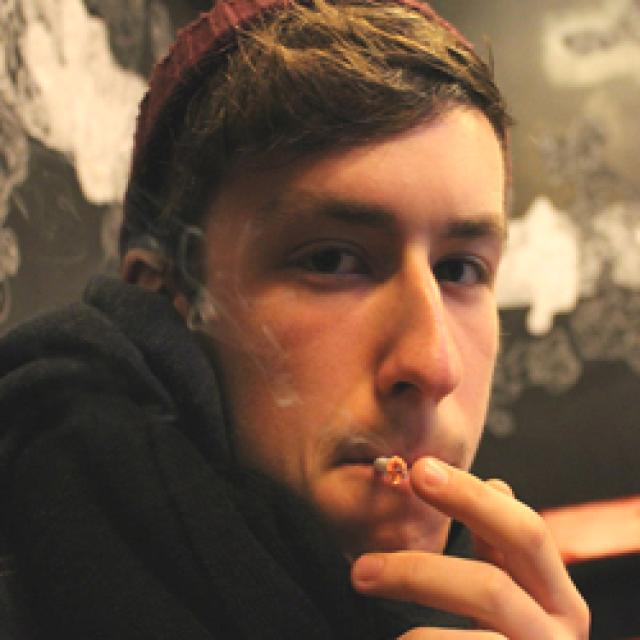Smooking: (373, 443, 413, 489)
